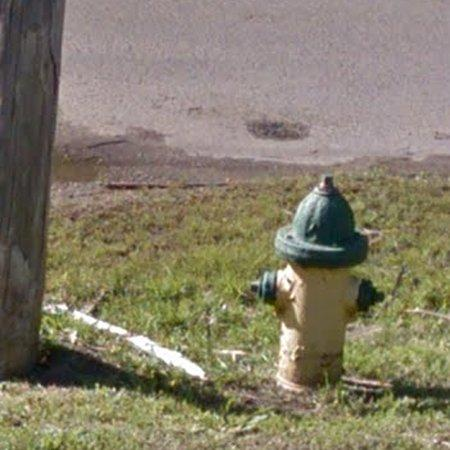a fire hydrant: (254, 175, 384, 393)
